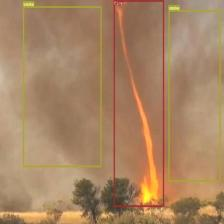fire: (113, 0, 164, 207)
smoke: (22, 6, 102, 167), (168, 10, 220, 181)
